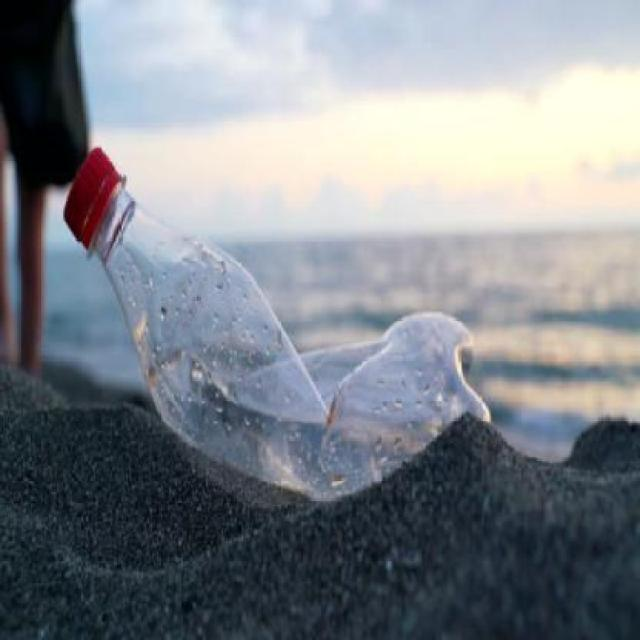bottle: (56, 109, 498, 596)
